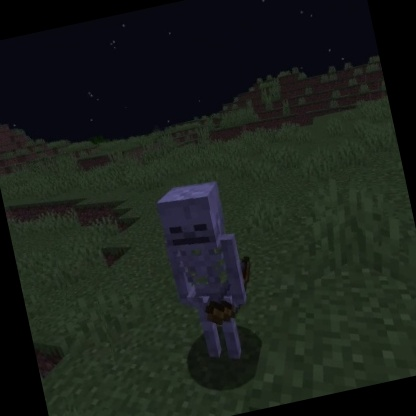skeleton: (149, 171, 272, 373)
